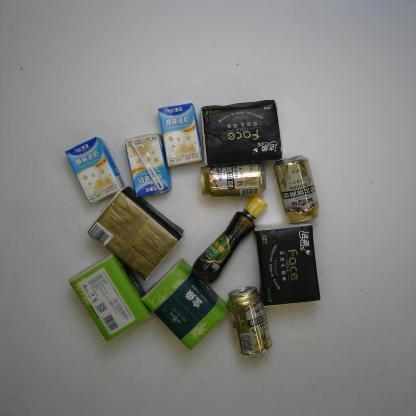Alcohol: (272, 154, 323, 224), (226, 286, 274, 358), (200, 162, 267, 198)
Milk: (64, 136, 127, 204), (124, 132, 172, 198), (158, 102, 204, 168)
Seasoner: (192, 191, 268, 286)
Tissue: (86, 184, 184, 282), (140, 256, 229, 351), (67, 252, 152, 343), (253, 221, 321, 309), (199, 98, 284, 167)
